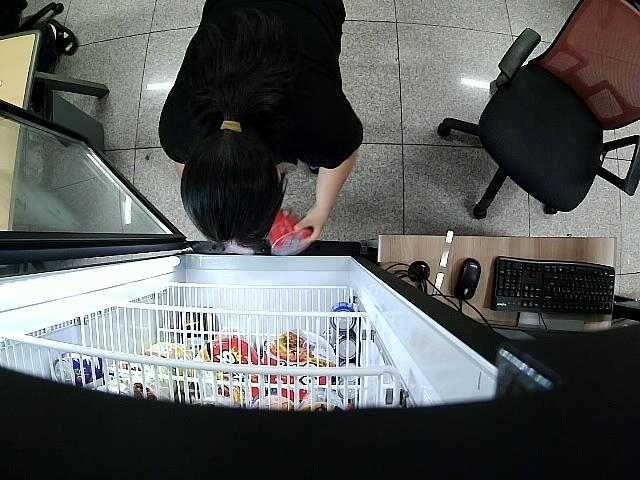00_hand: (294, 206, 329, 249)
01_shinRamen_L: (269, 209, 313, 256)
